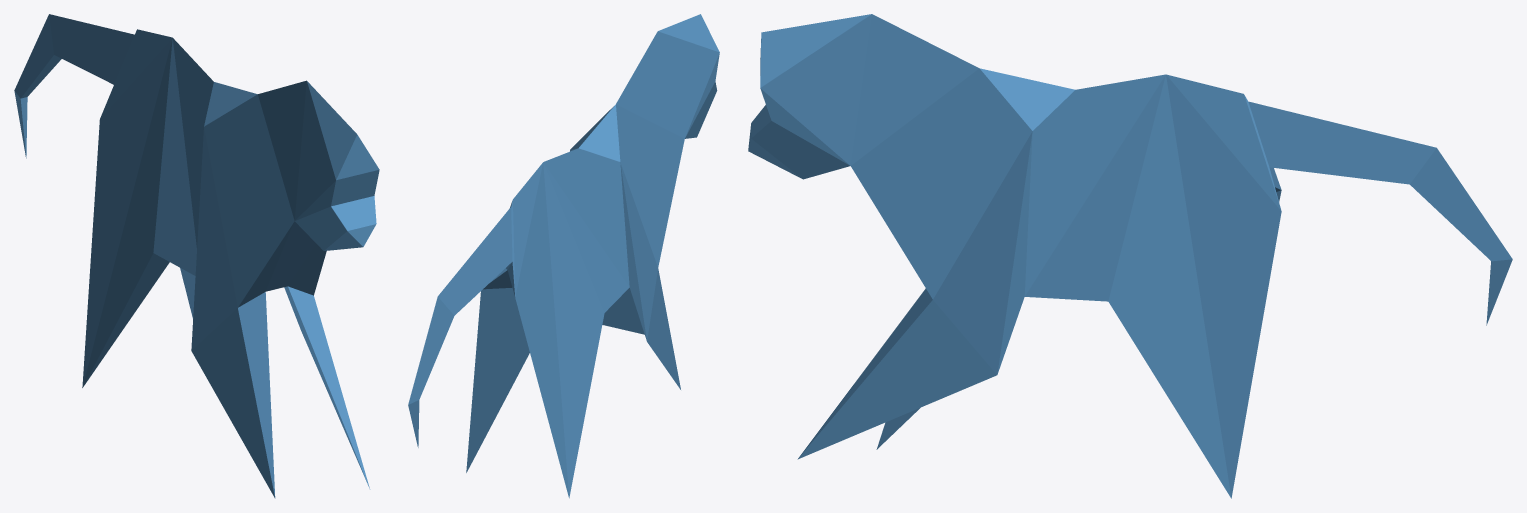
Rendered from monkey.glb.
3 renders of one model, left to right at view 1: azimuth 30°, elevation 25°; view 2: azimuth 150°, elevation 25°; view 3: azimuth 270°, elevation 25°, orthographic. The views are drawn at different scales.
Visible parts, largest first — view 1: Monkey; view 2: Monkey; view 3: Monkey.
Boxes of the visible parts, x1,y1,x2,y2 form: Monkey: (14, 14, 379, 498); Monkey: (408, 14, 719, 498); Monkey: (748, 14, 1512, 498).
Bounding box in the file's own units: 0.4384 × 1.43 × 2.19.
